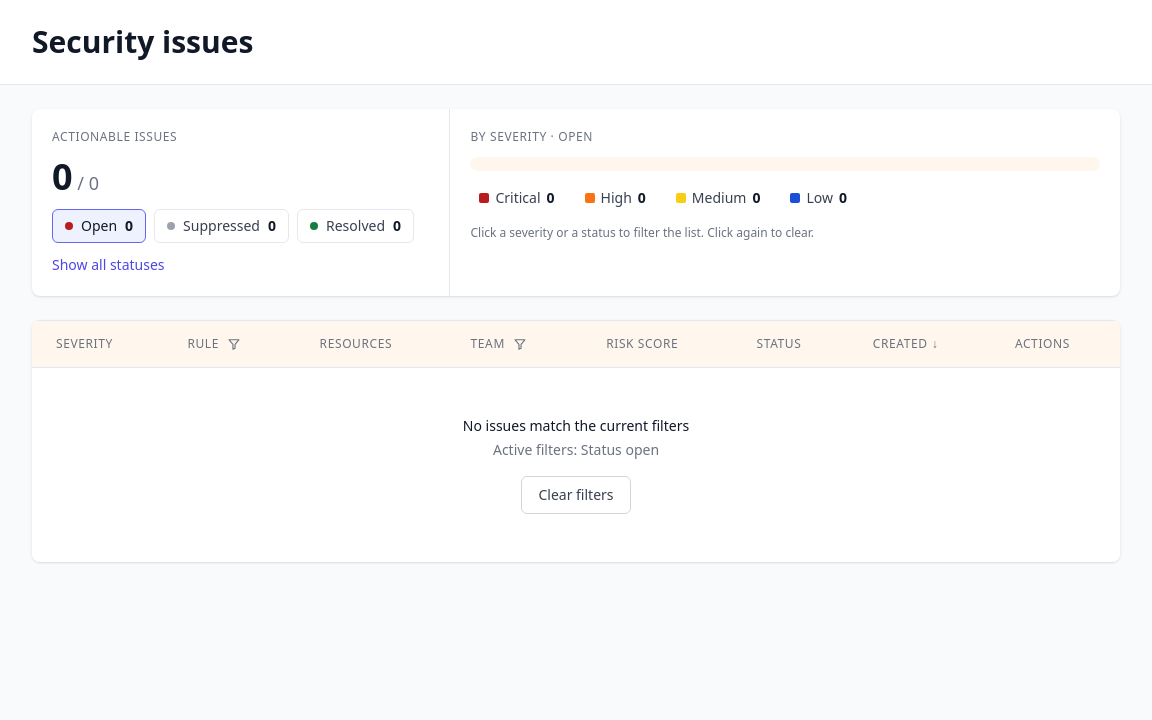
Test: IssuesPage › distinguishes filtered-out results from an empty backlog
This screenshot has width=1152, height=720.
Expected: the text "No issues match the current filters" is shown, [463, 416, 689, 435]
Expected: the text "Active filters: Status open" is shown, [493, 440, 659, 459]
Click the button "Clear filters" at (576, 495), box [521, 476, 630, 514]
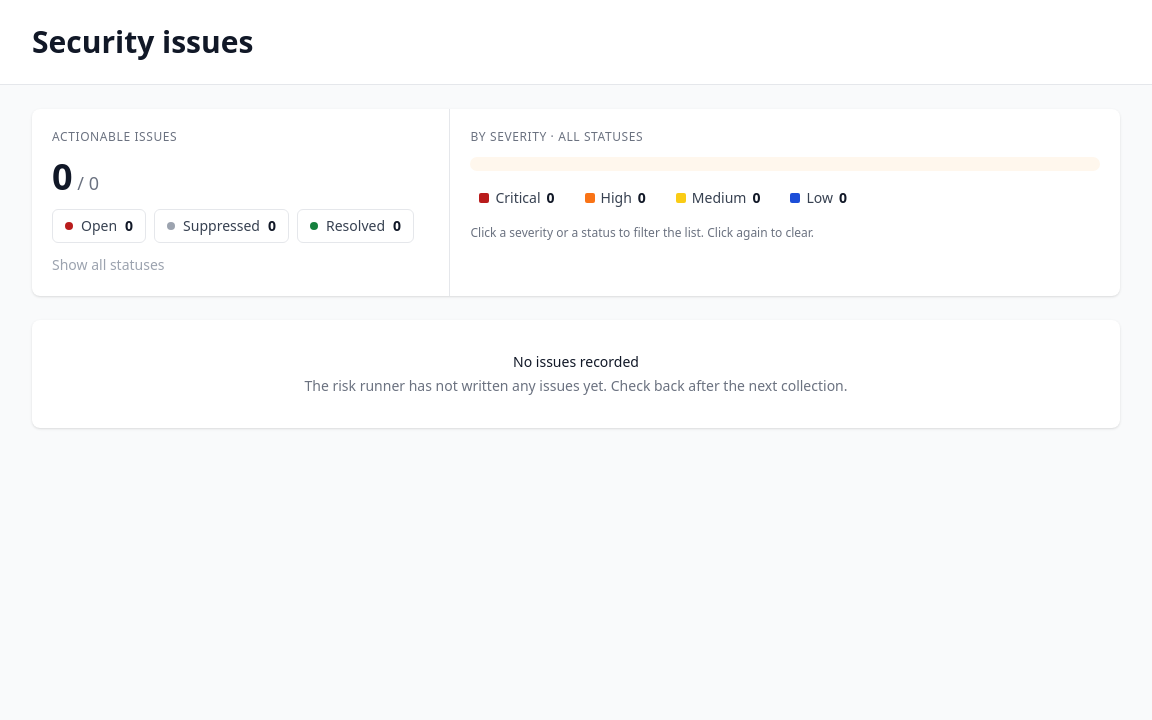
Result: the text "No issues recorded" is shown at [513, 352, 639, 371]
